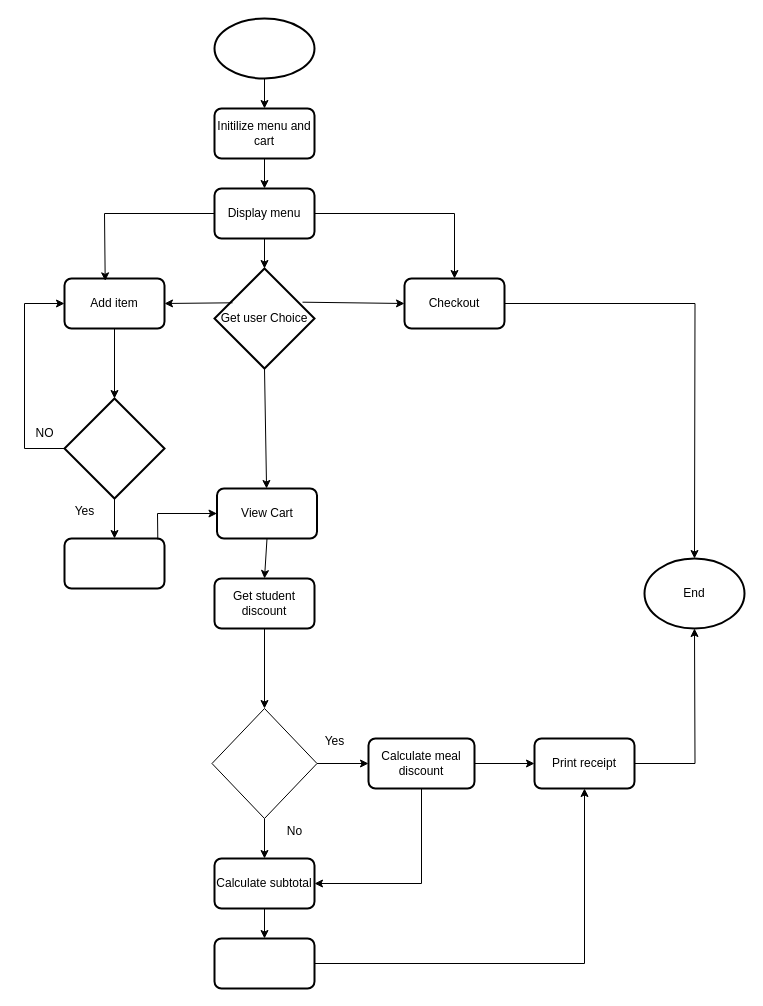
Some shapes in this 763 by 1006 pixel diagram are drawn without their labels. Each missing label, with the centre of its shape:
"Add to cart" goes at [114,563].
"Calculate TAX" goes at [264,963].
"Food & Drink both are in cart" goes at [264,763].
"Is item in menu?" goes at [114,448].
"Start" goes at [264,48].
